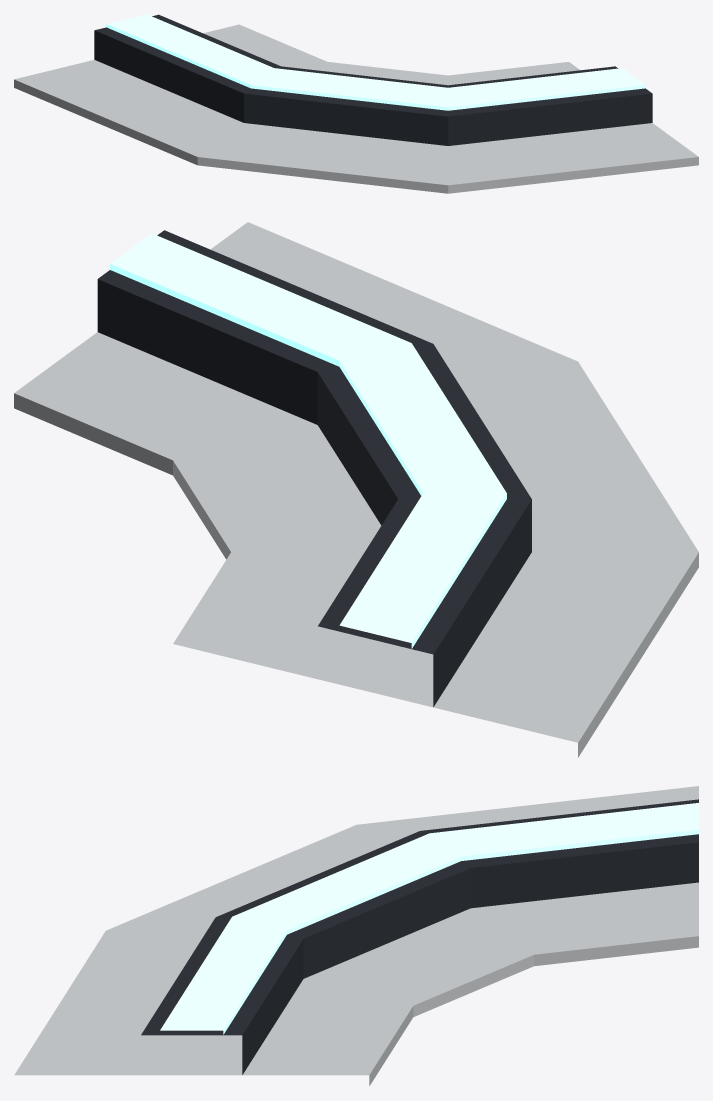
The model's file is road_rail_x_curve_lod2.glb.
3 views of the same model, one above another, from view 1: azimuth 30°, elevation 25°; view 2: azimuth 150°, elevation 25°; view 3: azimuth 270°, elevation 25° (orthographic). The views are drawn at different scales.
Visible parts, largest first — view 1: body; view 2: body; view 3: body.
Boxes of the visible parts, <box> form: body: <box>14,14,698,193</box>; body: <box>14,222,698,757</box>; body: <box>14,786,698,1085</box>.
Bounding box in the file's own units: 5.4 × 0.49 × 5.4.
